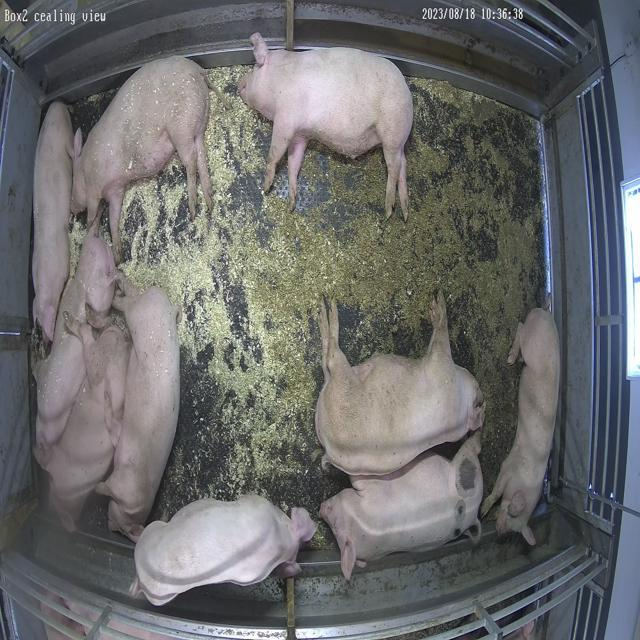Dirt: (222, 79, 546, 516)
Pig: (239, 33, 414, 220), (316, 294, 485, 476), (72, 56, 212, 260), (321, 433, 484, 580), (98, 288, 180, 542), (135, 496, 315, 606), (35, 226, 117, 462), (482, 309, 562, 546), (46, 320, 129, 532), (32, 101, 74, 342)
